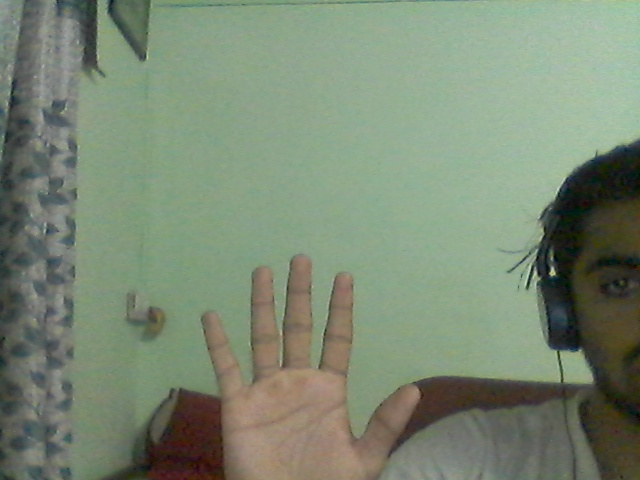Hello: (178, 233, 437, 480)
